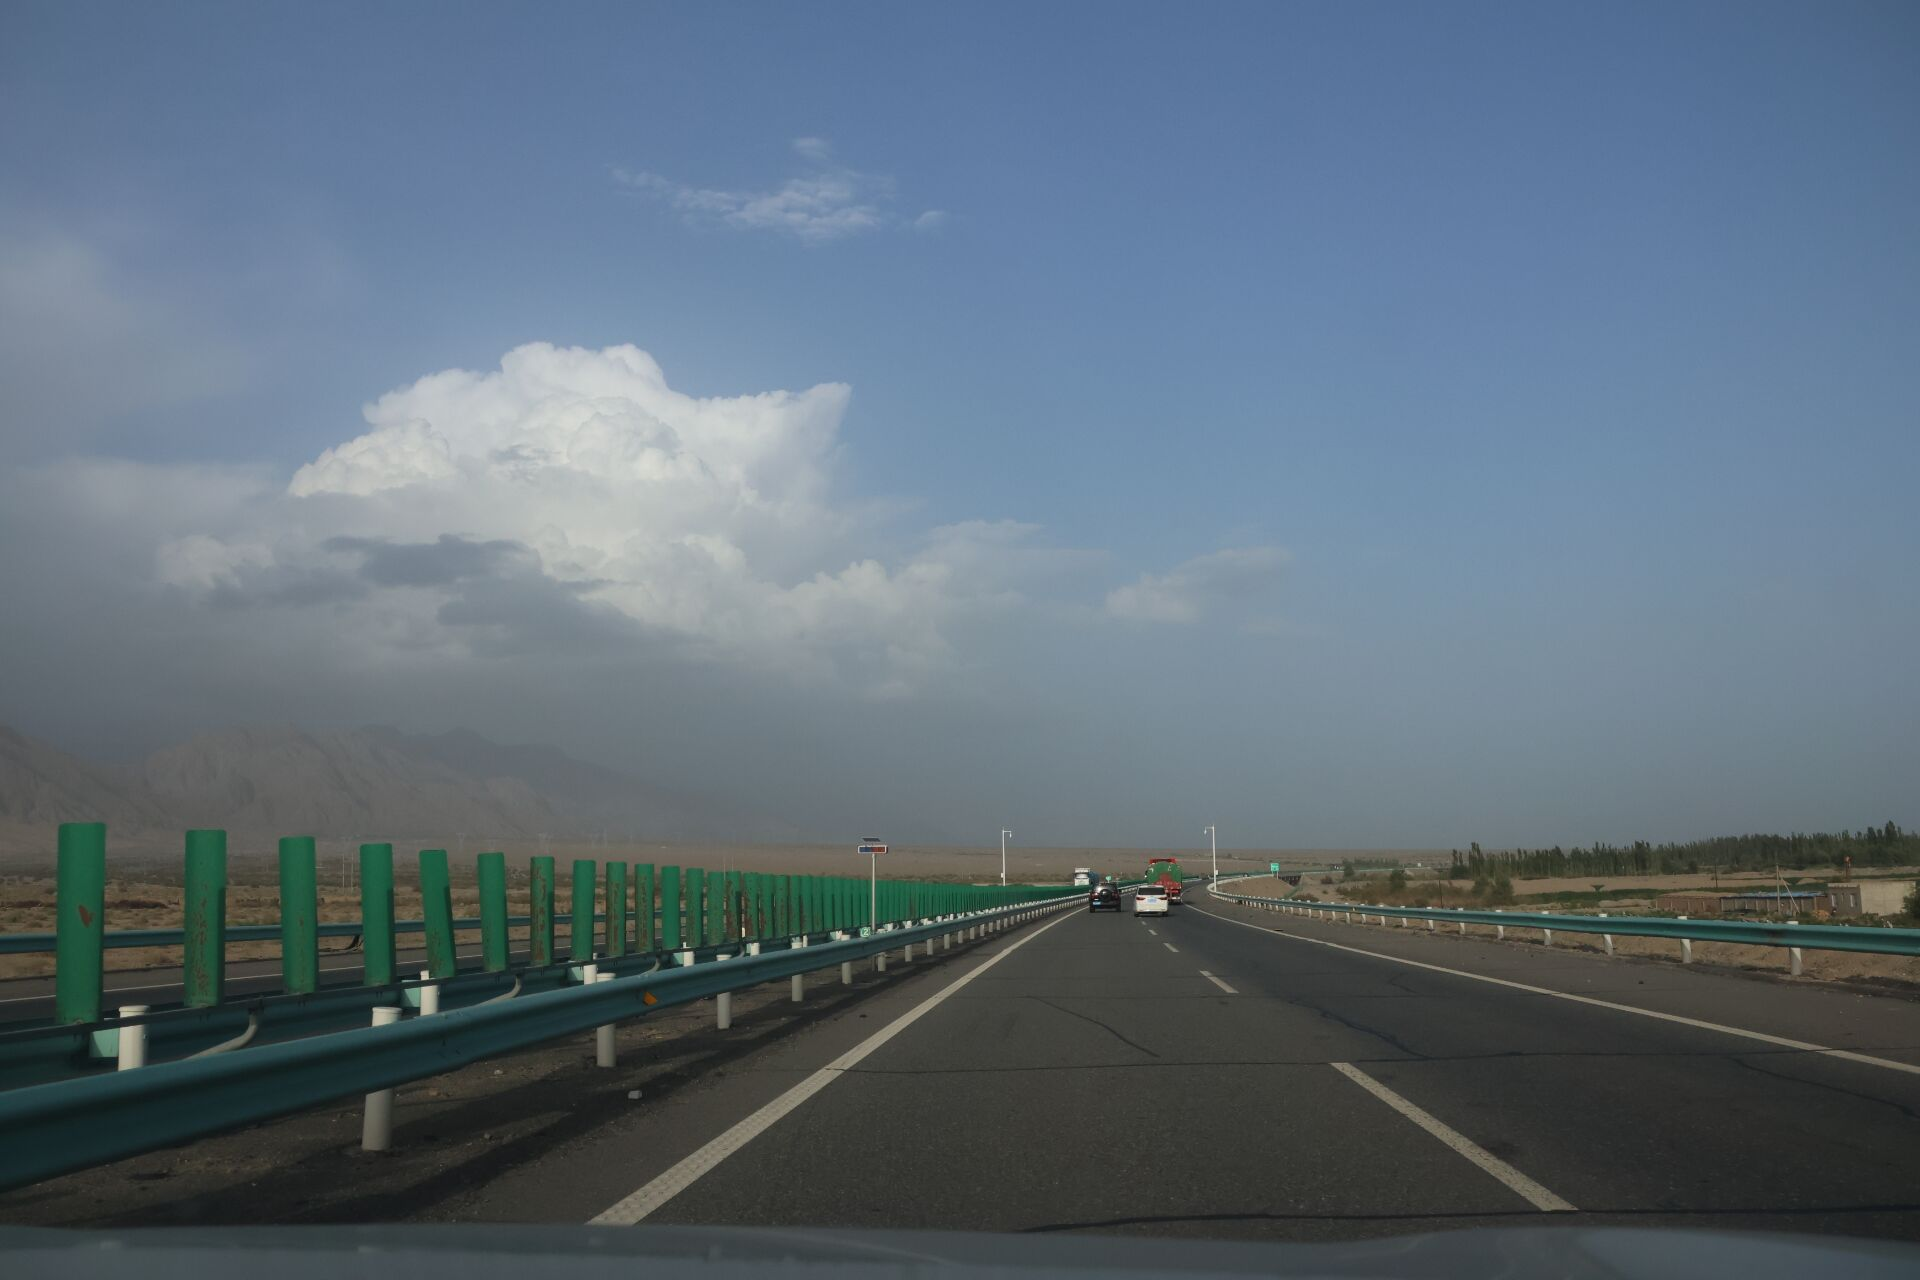Cumulus: (51, 259, 1301, 791)
